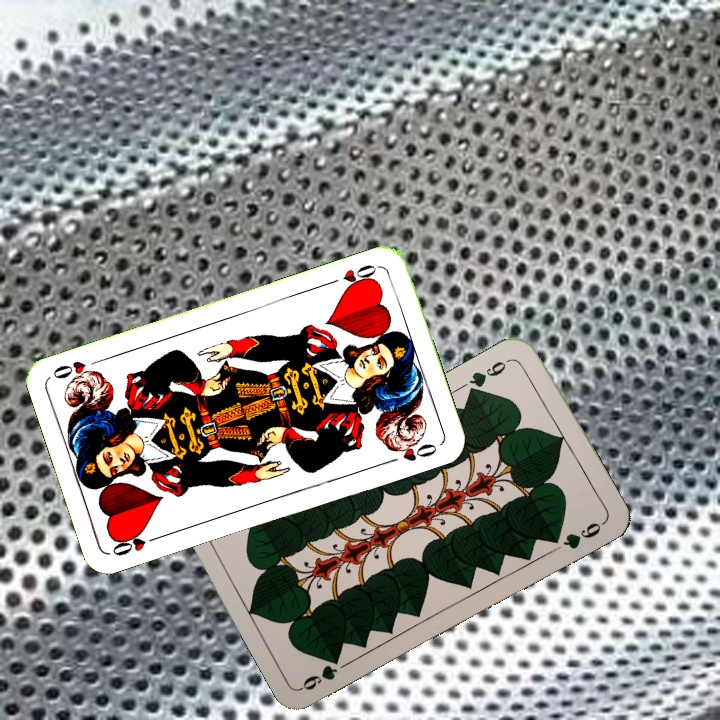G9: (464, 354, 515, 395), (298, 660, 340, 693)
HO: (324, 260, 381, 293), (108, 528, 166, 559)
